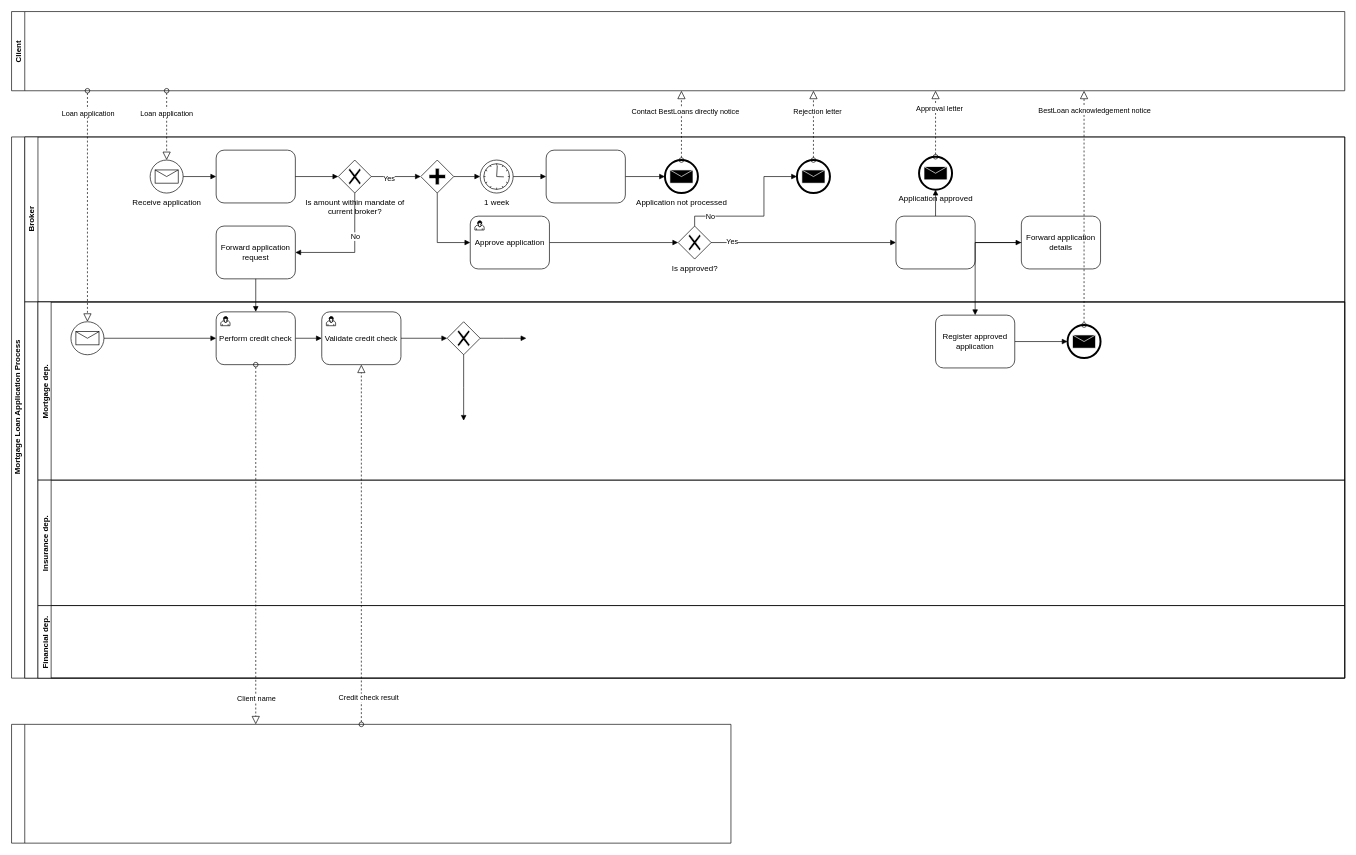
The diagram is 1356 pixels wide and 855 high, and some of its shapes have lost their labels. The box of each missing label's shape, as (x1, y1, x2, y2) in pixels:
Application registered: (1067, 324, 1101, 358)
Application rejected: (796, 159, 830, 193)
BestLoan: (24, 301, 1345, 678)
Bureau of Credit Registration: (11, 724, 731, 843)
Is credit check OK?: (446, 321, 480, 355)
Receive direct application: (70, 321, 104, 355)
Reduce interest rate for current loan applicant: (545, 149, 625, 203)
Send approval: (895, 215, 975, 269)
Validate application amount: (215, 149, 295, 203)
